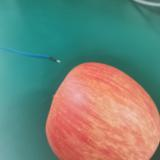apple: (45, 62, 160, 160)
